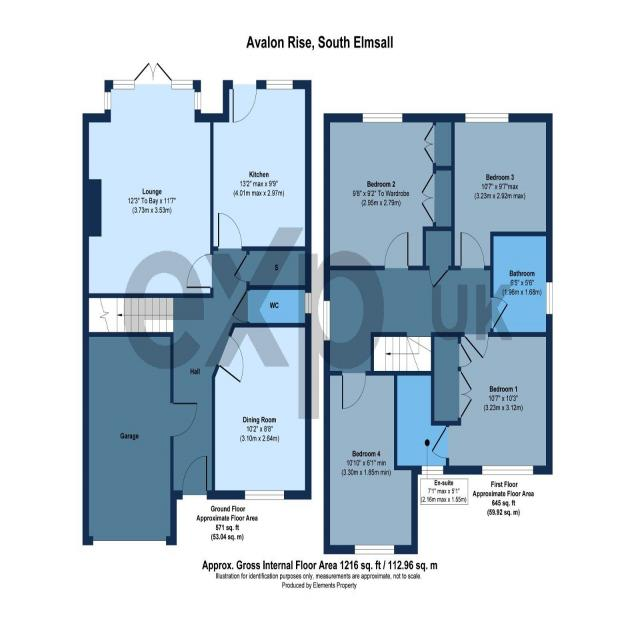DOOR: (216, 333, 244, 385), (181, 454, 208, 500), (383, 230, 410, 271), (232, 80, 257, 124), (340, 370, 367, 410), (170, 401, 199, 438), (185, 253, 214, 289), (459, 231, 485, 271), (217, 212, 243, 251), (462, 330, 490, 361), (429, 425, 450, 460), (230, 289, 250, 323), (490, 295, 509, 330), (232, 253, 250, 282)
DOUBLE DOOR: (134, 61, 172, 90)
ROOM: (82, 61, 214, 299), (322, 112, 456, 271), (211, 322, 312, 500), (429, 331, 553, 475), (323, 370, 418, 555), (210, 79, 312, 251), (451, 112, 554, 272)
WINDOW: (463, 112, 510, 125), (360, 112, 405, 125), (481, 465, 534, 475), (354, 544, 395, 555), (244, 490, 285, 500), (265, 79, 294, 91), (323, 300, 331, 343), (421, 465, 444, 476), (112, 79, 135, 90), (546, 281, 553, 316), (171, 79, 193, 90), (305, 292, 312, 314), (104, 91, 112, 110), (194, 91, 201, 110)
